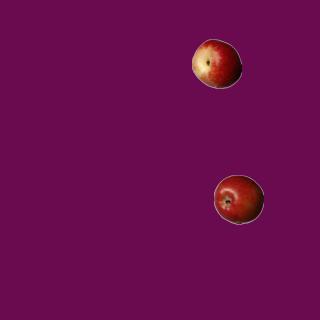Apple Braeburn: (213, 174, 263, 224)
Nectarine: (191, 38, 241, 88)
